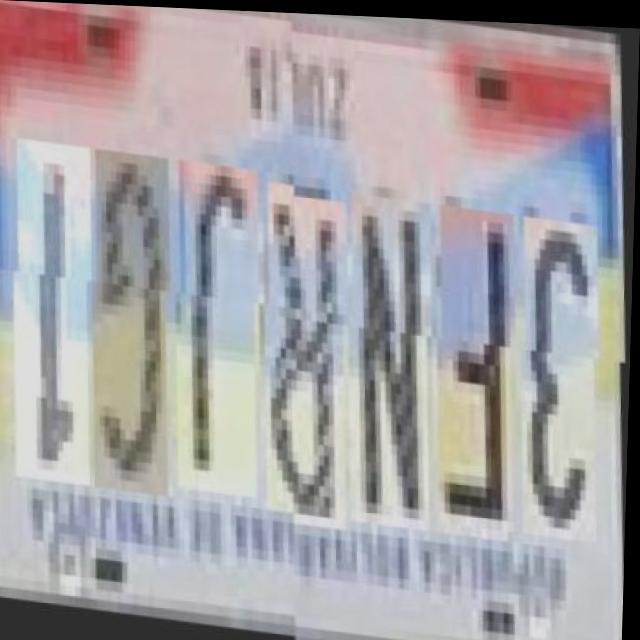1: (8, 149, 102, 496)
3: (516, 202, 609, 528)
f: (432, 194, 526, 530)
g: (87, 157, 181, 504)
j: (170, 166, 269, 503)
n: (343, 184, 441, 521)
r: (260, 186, 358, 522)
